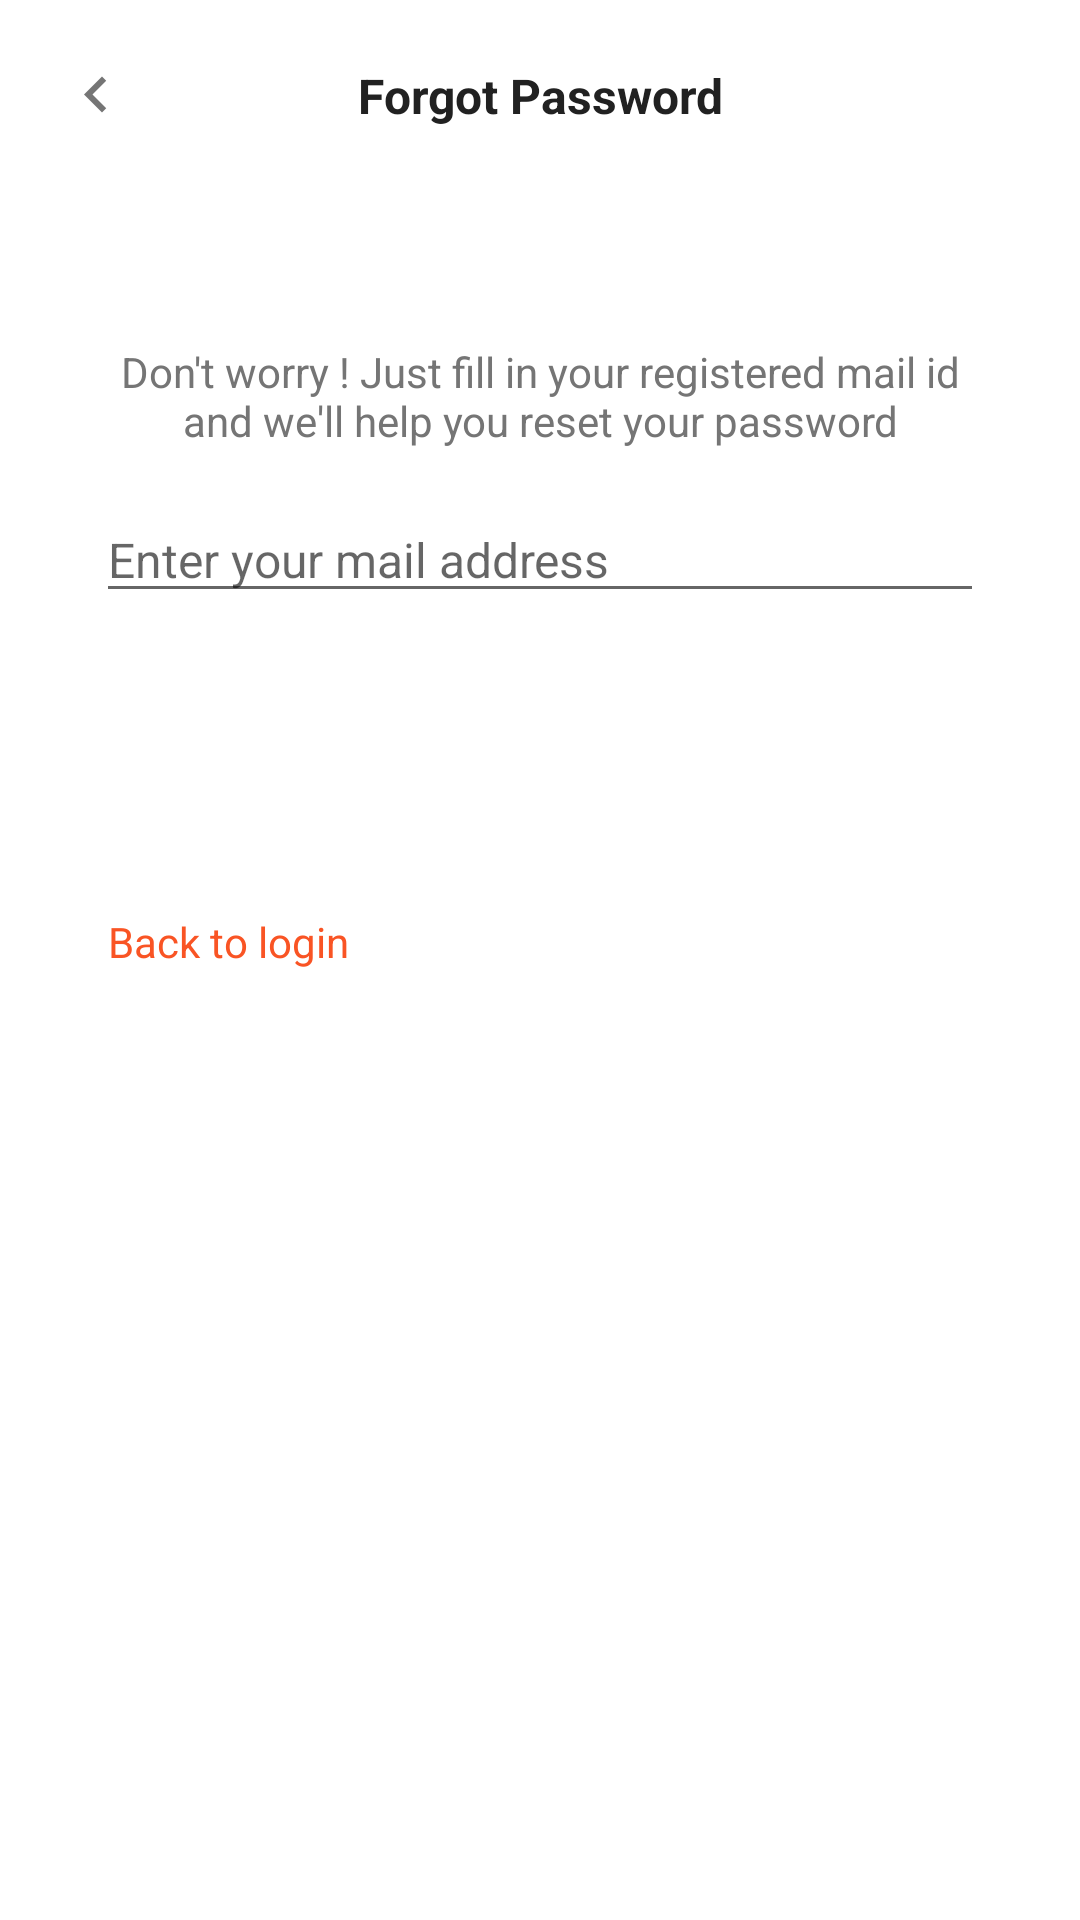

Icons on this 1080 × 1920 Android screen, each with the point to tap as (x=x, y=y):
keyboard arrow left: (x=95, y=94)
